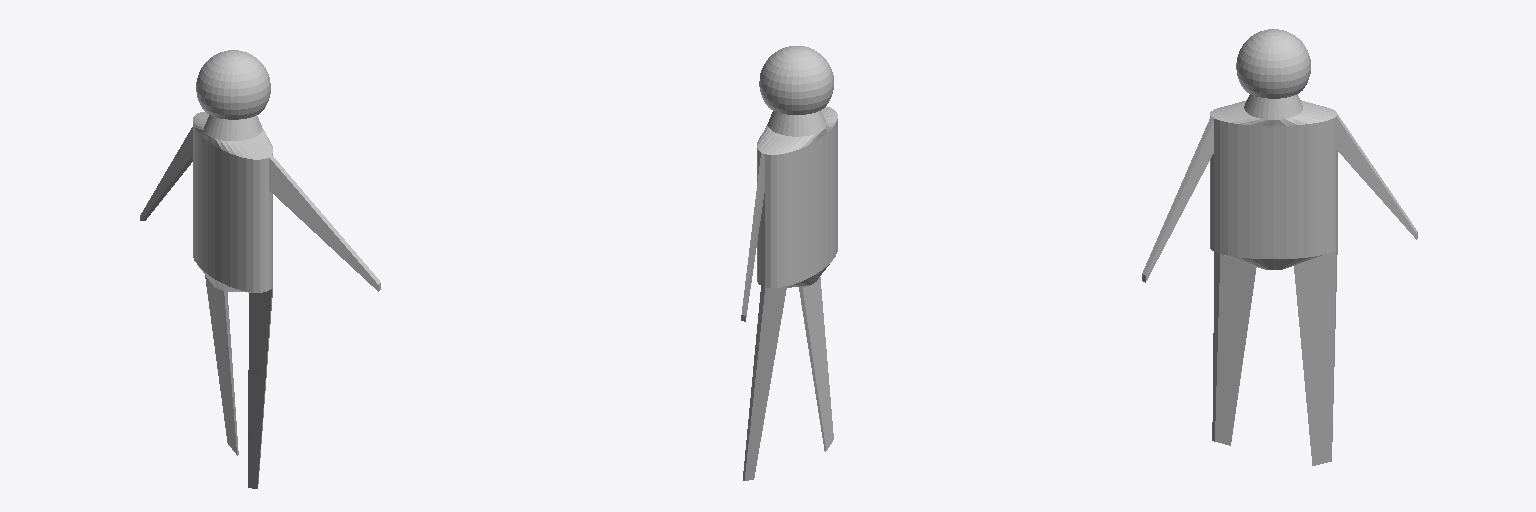
Rendered from human.obj.
3 renders of one model, left to right at view 1: azimuth 30°, elevation 25°; view 2: azimuth 150°, elevation 25°; view 3: azimuth 270°, elevation 25°, orthographic.
Parts seen in each view (by area): view 1: Sphere; view 2: Sphere; view 3: Sphere.
Part boxes in pixels (x1,y1,x2,y2): Sphere: (140, 50, 380, 488); Sphere: (741, 46, 837, 480); Sphere: (1142, 29, 1417, 465).
Bounding box in the file's own units: 1.66 × 5.74 × 3.4.